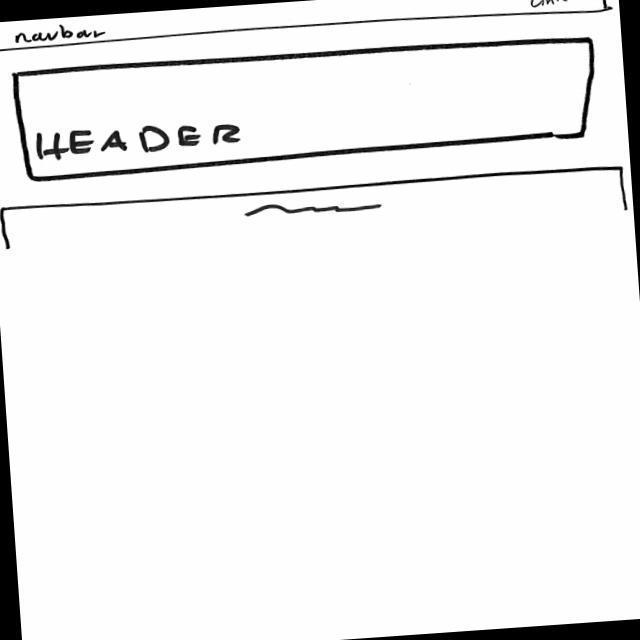container: (10, 30, 604, 185), (1, 1, 614, 56)
label: (33, 117, 245, 163), (15, 22, 107, 45), (528, 1, 574, 9)
text: (241, 196, 386, 224)
